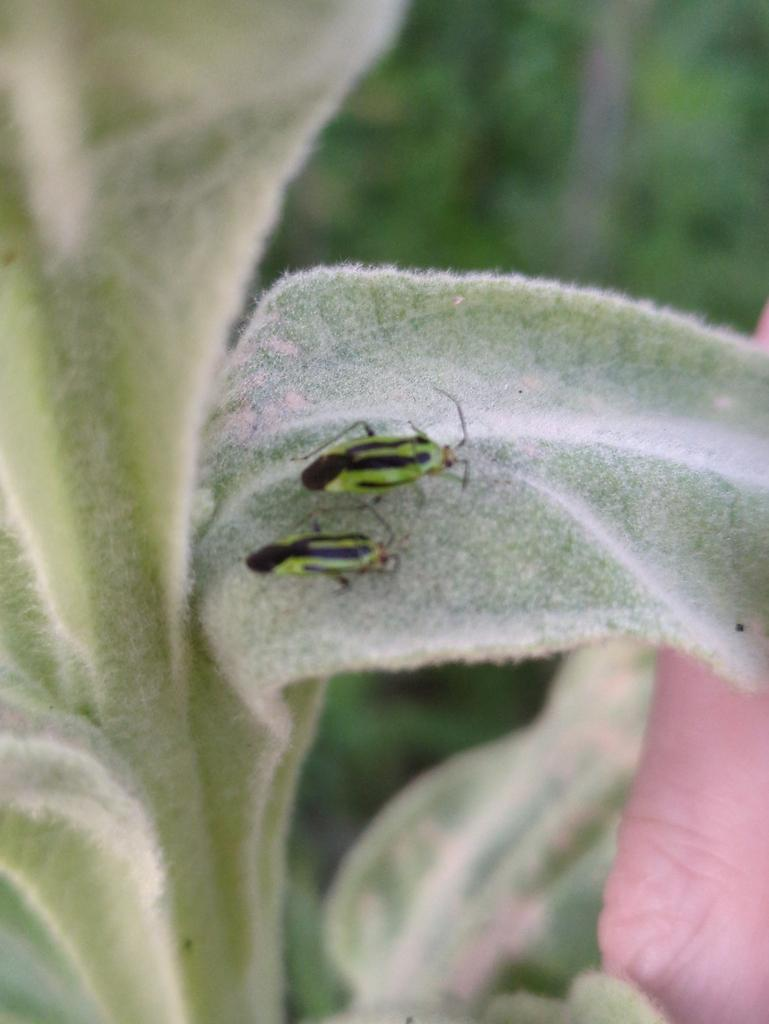plant_bugs: (273, 356, 524, 540), (223, 501, 423, 629)
